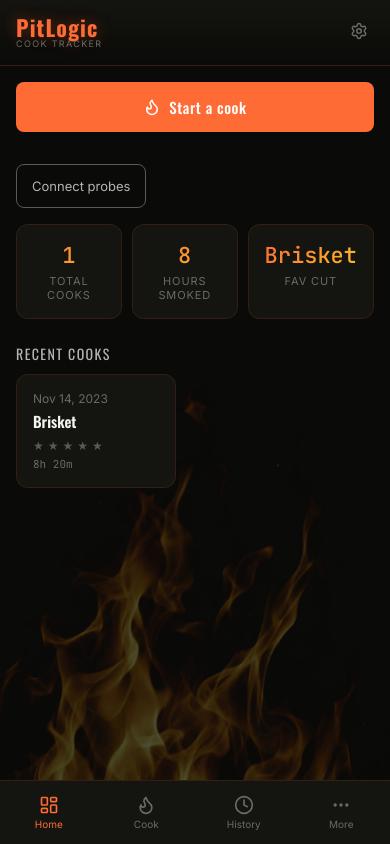
Test: navigation from completed cook detail › shows Dashboard after leaving detail
The image size is (390, 844).
Click the button "History".
click(244, 812)  # box [195, 781, 292, 843]
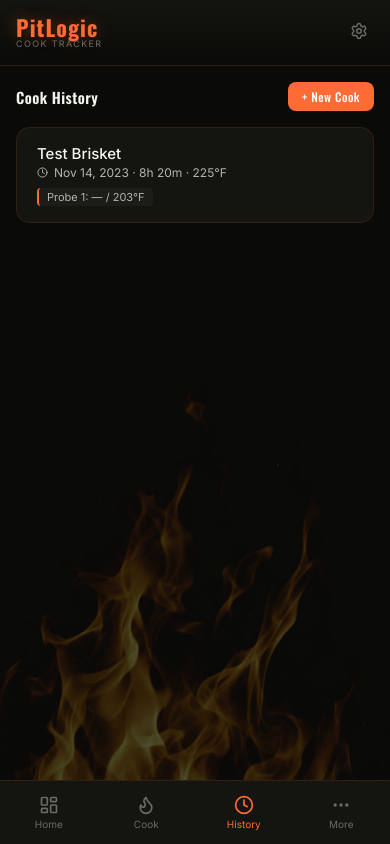
Click the button "Test Brisket".
click(195, 175)  # box [16, 127, 374, 223]
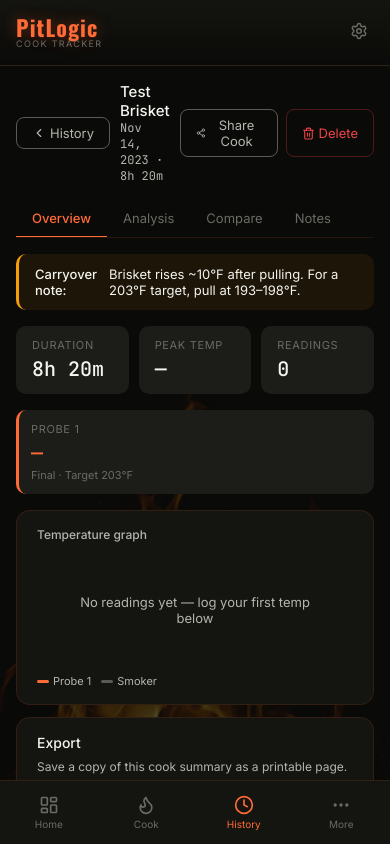
expect the button "History" next to "Nov 14, 2023" is shown: met, box [16, 117, 110, 149]
Click the button "Home".
click(49, 812)  # box [0, 781, 98, 843]
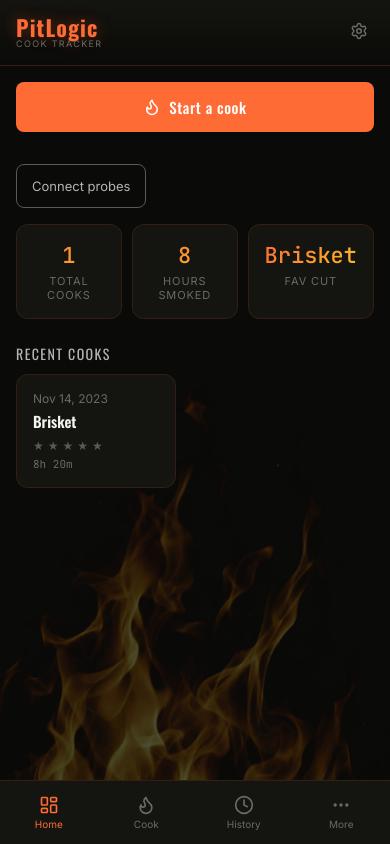
expect the element that starts with "Start a cook" shows "Recent Cooks": met, box [16, 343, 111, 364]
